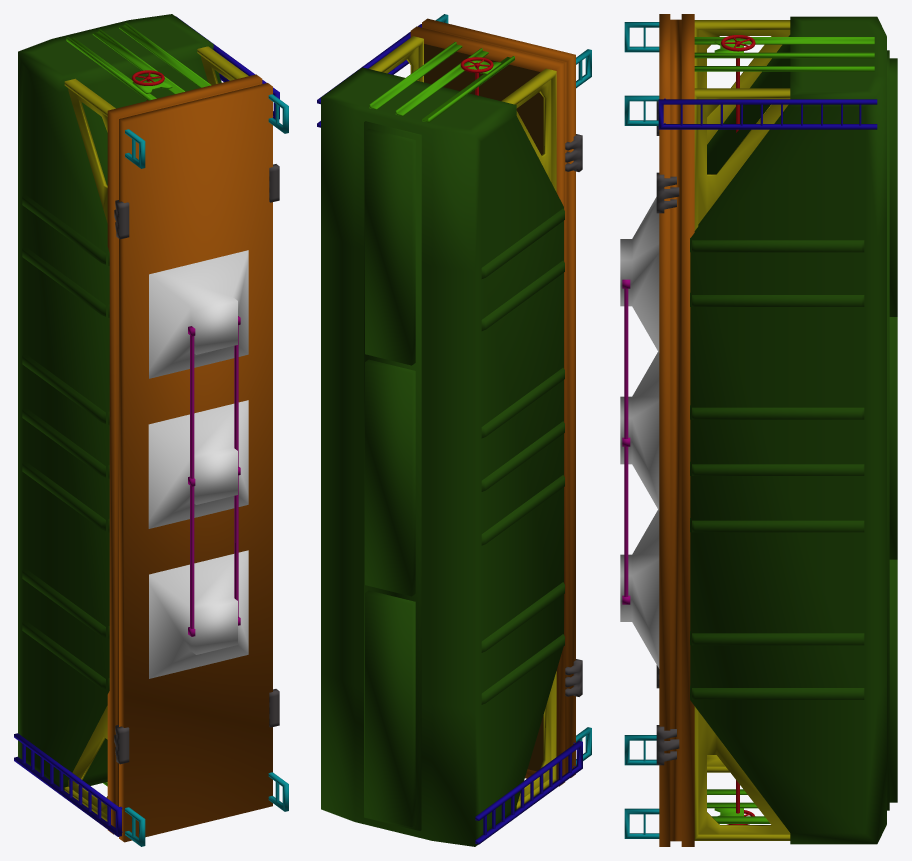
The model's file is CargoWagon_03.fbx.
The picture shows the model from 3 angles, left to right: view 1: azimuth 30°, elevation 25°; view 2: azimuth 150°, elevation 25°; view 3: azimuth 270°, elevation 25°; orthographic projection. The views are drawn at different scales.
Parts seen in each view (by area): view 1: LP_13_4_CargoWagon_03; view 2: LP_13_4_CargoWagon_03; view 3: LP_13_4_CargoWagon_03.
Boxes of the visible parts, x1,y1,x2,y2 form: LP_13_4_CargoWagon_03: [14, 14, 288, 846]; LP_13_4_CargoWagon_03: [317, 14, 591, 846]; LP_13_4_CargoWagon_03: [620, 14, 897, 846].
Size of the model in its own units: 3.16 by 13.54 by 4.45.
